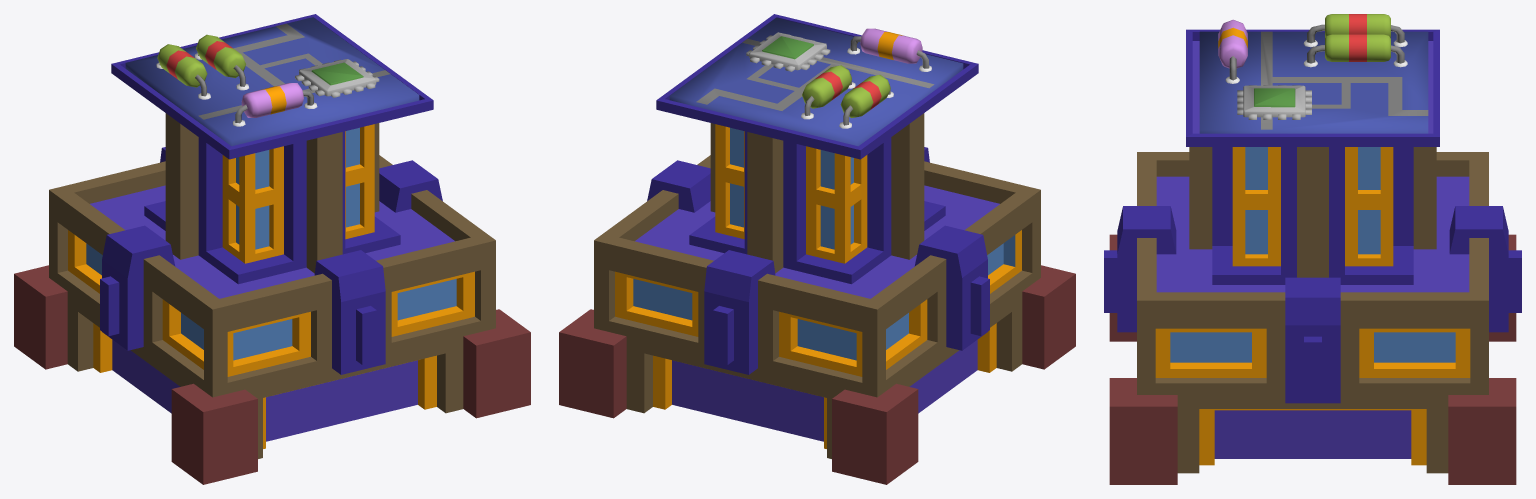
The model's file is Transistor_04.fbx.
3 renders of one model, left to right at view 1: azimuth 30°, elevation 25°; view 2: azimuth 150°, elevation 25°; view 3: azimuth 270°, elevation 25°, orthographic. The views are drawn at different scales.
Parts seen in each view (by area): view 1: Transistor_04; view 2: Transistor_04; view 3: Transistor_04.
Boxes of the visible parts, box(x1,y1,x2,y2) form: Transistor_04: box(14, 14, 530, 484); Transistor_04: box(559, 14, 1075, 484); Transistor_04: box(1104, 14, 1521, 484).
Bounding box in the file's own units: 15.45 × 14.21 × 15.45.
